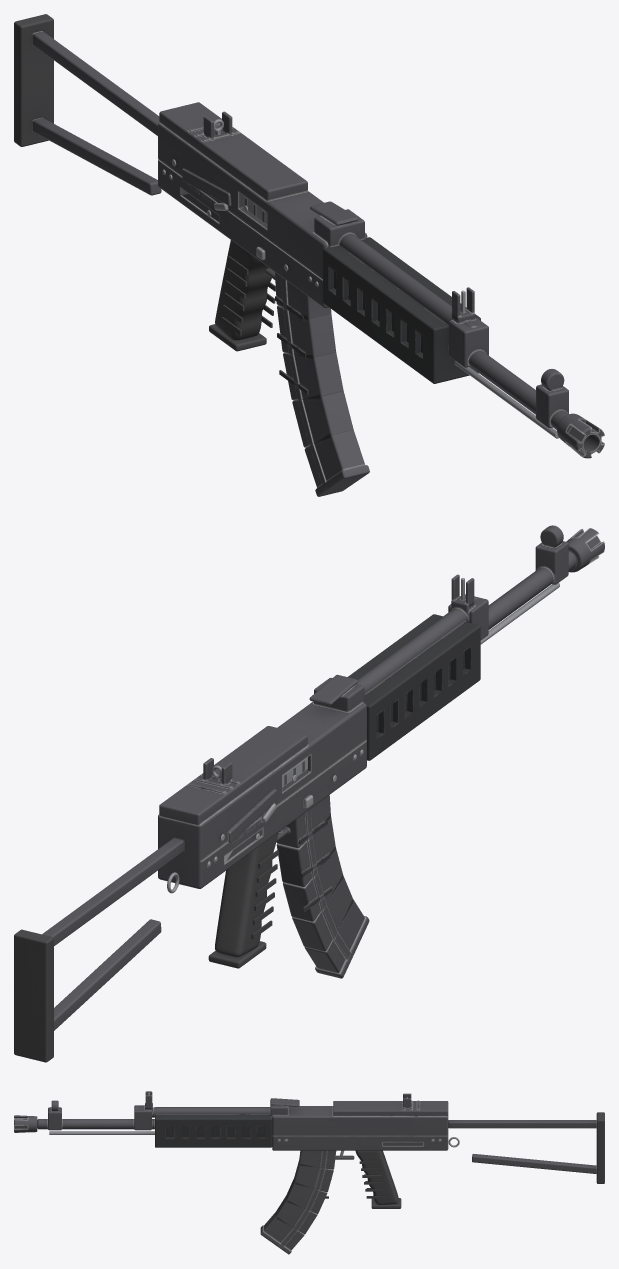
The model's file is galil.fbx.
The picture shows the model from 3 angles, top to bottom: view 1: azimuth 30°, elevation 25°; view 2: azimuth 150°, elevation 25°; view 3: azimuth 270°, elevation 25°; orthographic projection. The views are drawn at different scales.
Visible parts, largest first — view 1: galil; view 2: galil; view 3: galil.
Boxes of the visible parts, bbox=[...] form: galil: bbox=[14, 14, 604, 496]; galil: bbox=[14, 525, 604, 1062]; galil: bbox=[14, 1091, 604, 1254].
Size of the model in its own units: 0.052 by 0.297 by 1.01.
